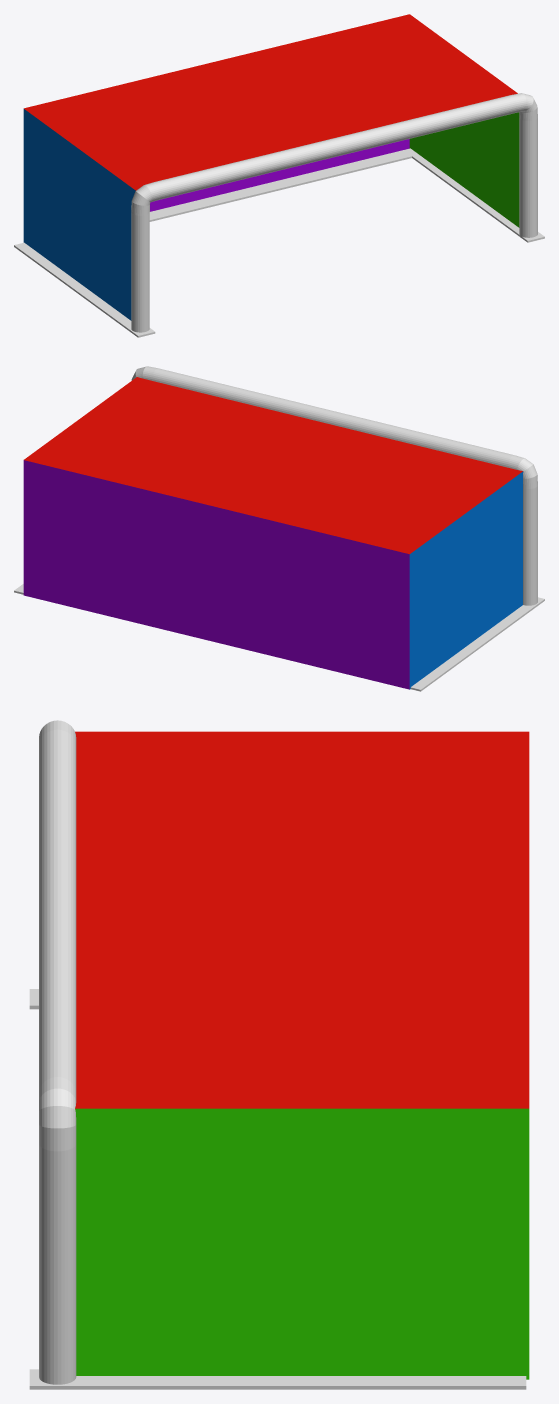
The model's file is Goal Post.fbx.
3 renders of one model, top to bottom at view 1: azimuth 30°, elevation 25°; view 2: azimuth 150°, elevation 25°; view 3: azimuth 270°, elevation 25°, orthographic. The views are drawn at different scales.
Parts seen in each view (by area): view 1: Cube, GoalPost; view 2: Cube, GoalPost; view 3: Cube, GoalPost.
Part boxes in pixels (x1,y1,x2,y2): Cube: [23, 14, 519, 320]; GoalPost: [14, 93, 544, 337]; Cube: [23, 377, 523, 689]; GoalPost: [14, 366, 544, 691]; Cube: [75, 731, 529, 1379]; GoalPost: [29, 720, 526, 1389].
Bounding box in the file's own units: 5030 × 1700 × 2676.
